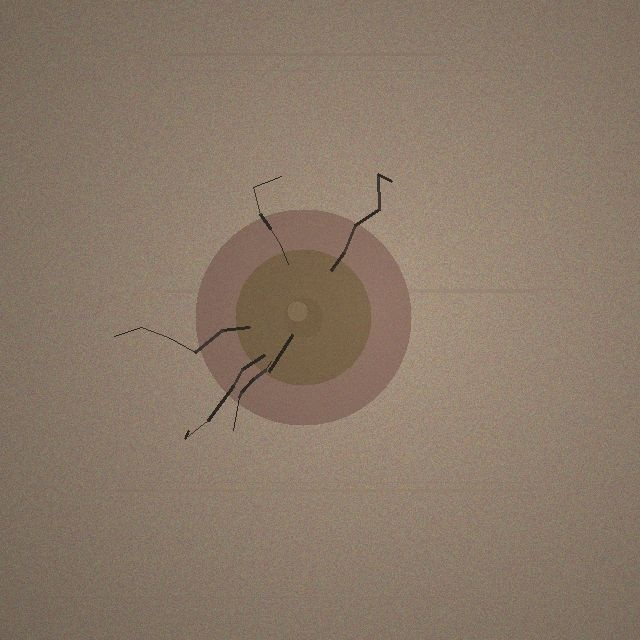crack: (195, 209, 411, 425)
